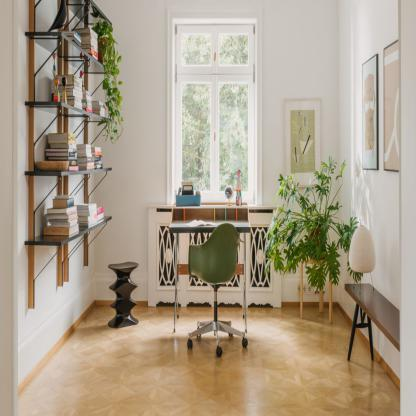chair: (185, 222, 251, 364)
table: (171, 217, 257, 334), (338, 278, 401, 399), (98, 255, 147, 341)
